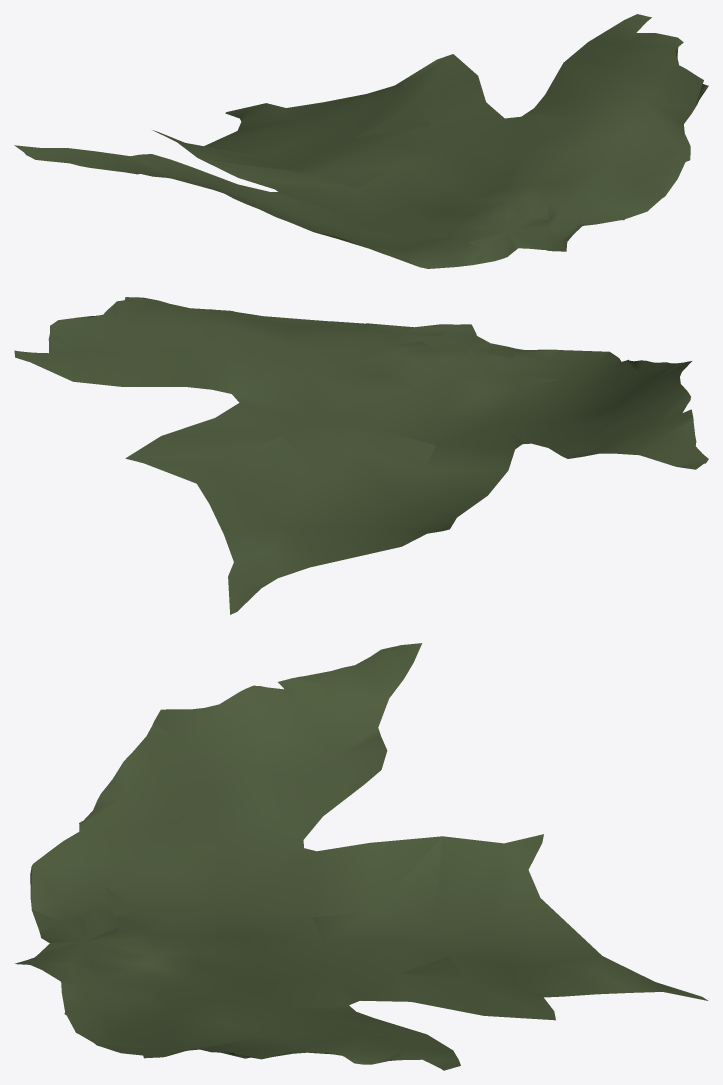
File: trees-leaves-crumpled-leaf_v4.glb
3 views of the same model, one above another, from view 1: azimuth 30°, elevation 25°; view 2: azimuth 150°, elevation 25°; view 3: azimuth 270°, elevation 25° (orthographic). The views are drawn at different scales.
Visible parts, largest first — view 1: Crumpled Leaf_v4; view 2: Crumpled Leaf_v4; view 3: Crumpled Leaf_v4.
Boxes of the visible parts, box(x1,y1,x2,y2) form: Crumpled Leaf_v4: box(14, 14, 708, 268); Crumpled Leaf_v4: box(14, 297, 708, 614); Crumpled Leaf_v4: box(15, 643, 708, 1070).
Bounding box in the file's own units: 0.12 × 0.0239 × 0.0919.
